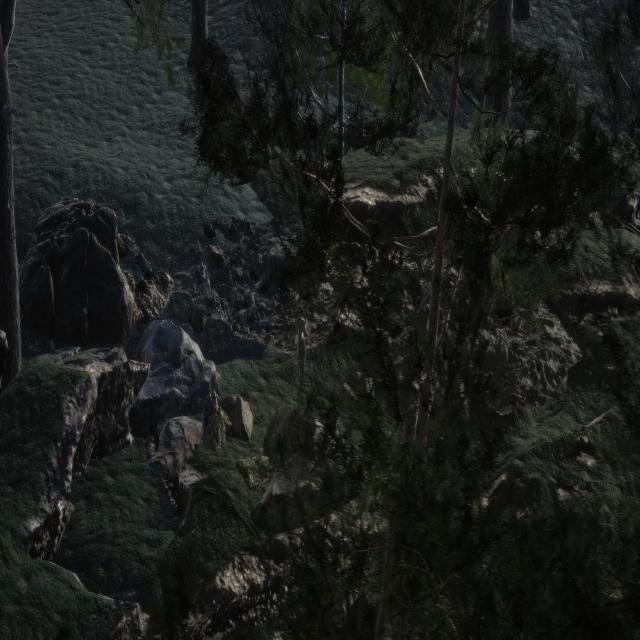Human: (292, 306, 310, 410)
